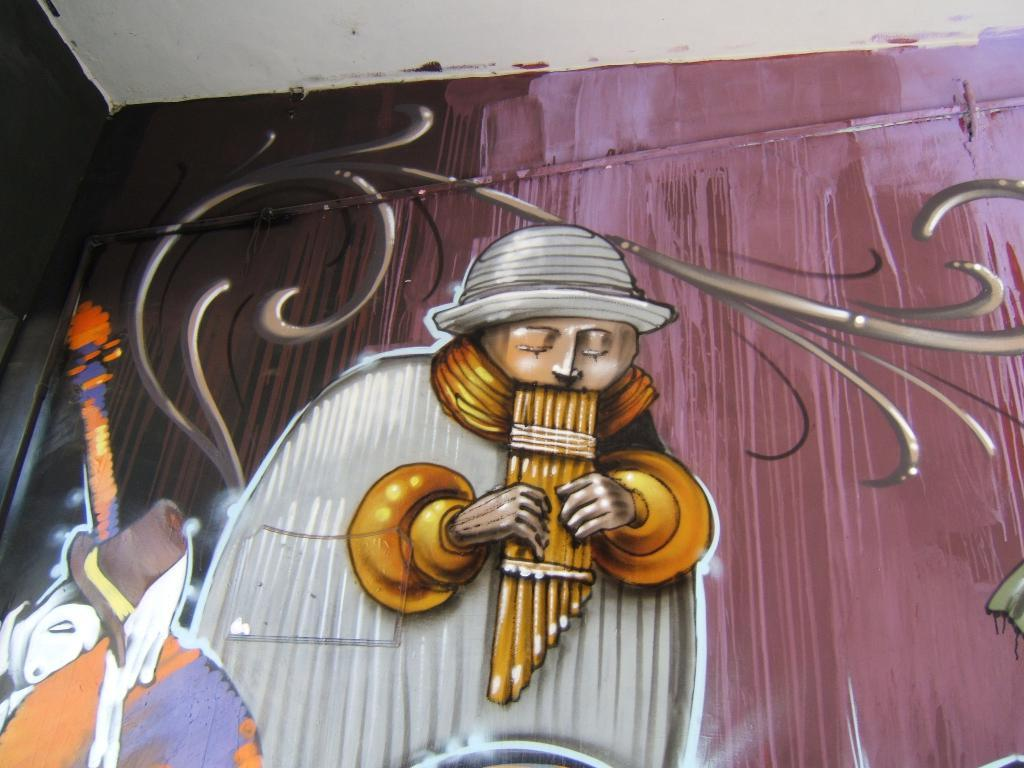Hat: (434, 222, 680, 336), (64, 496, 191, 664)
